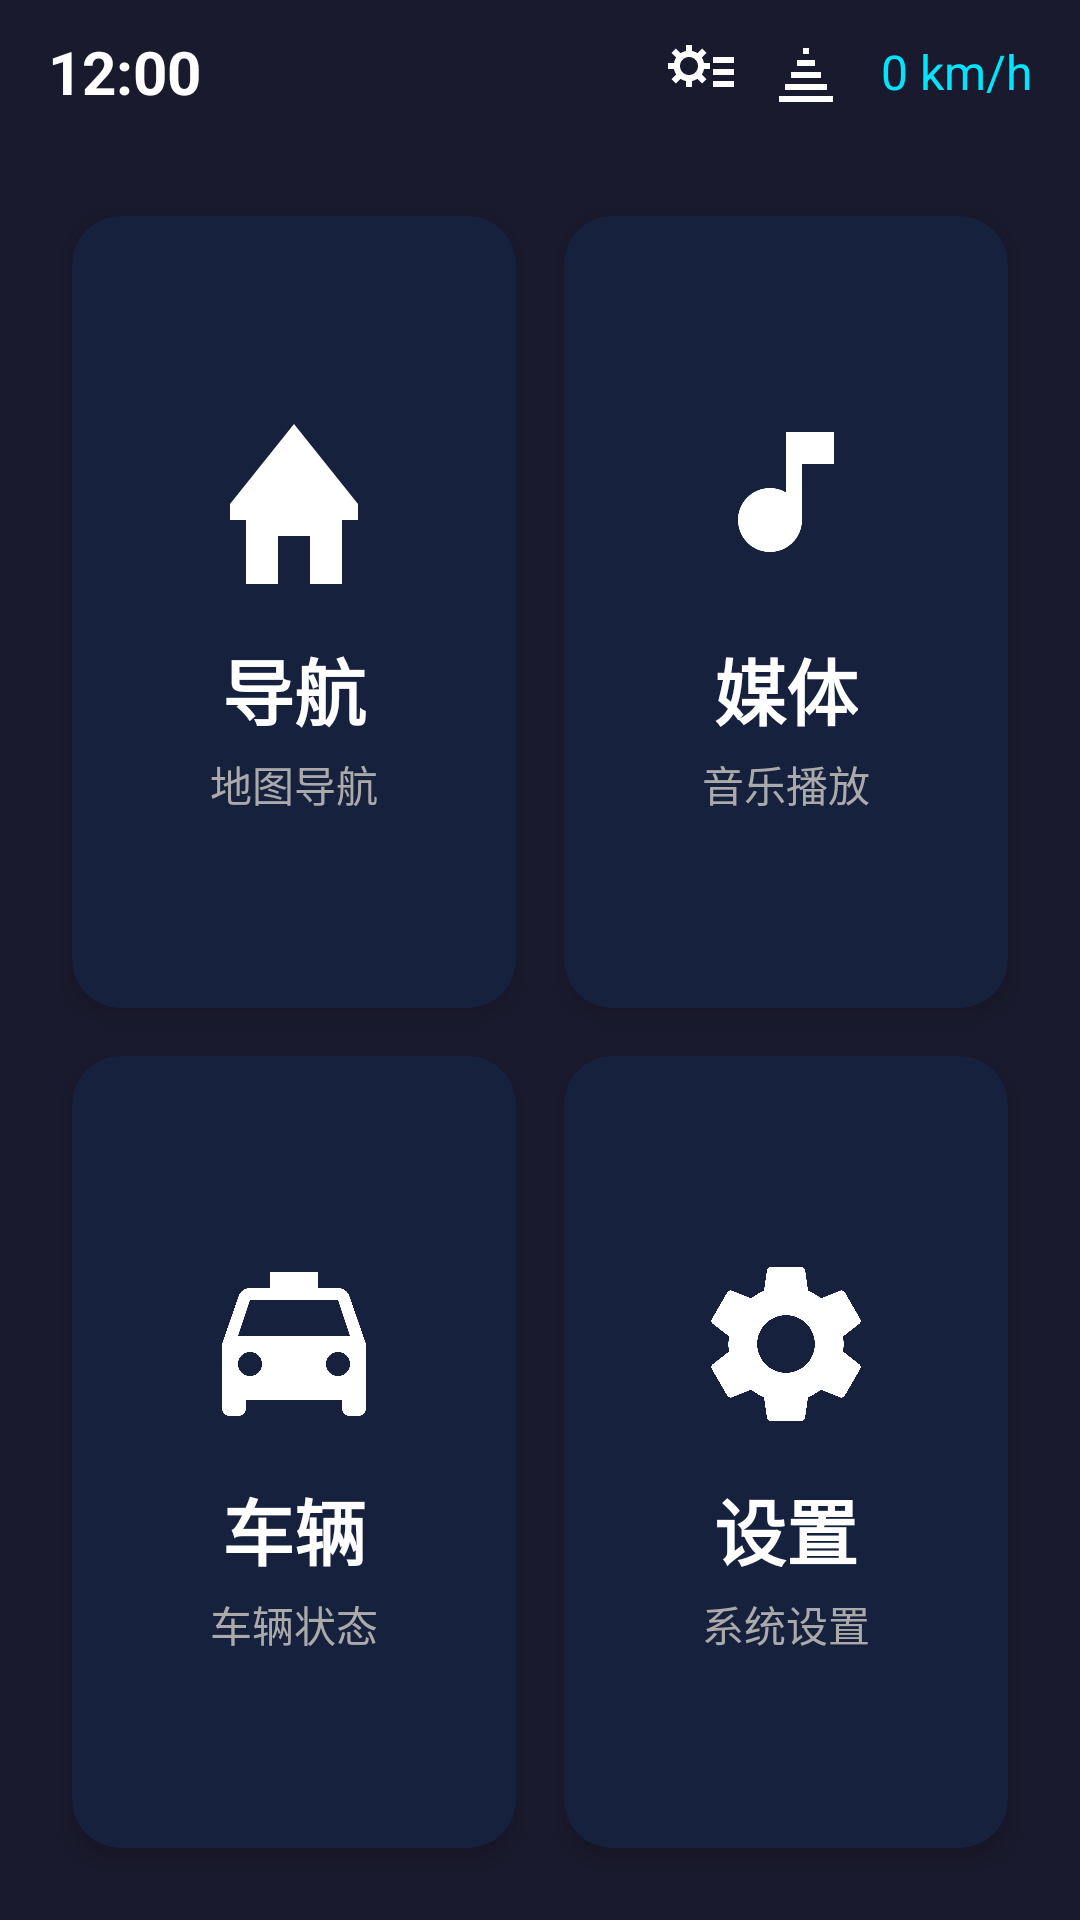

Screen size 1080*1920. Icon name, then its center in pixels as (x=x, y=y):
car: (x=294, y=1344)
music: (x=786, y=492)
navigation: (x=294, y=504)
settings: (x=786, y=1344)
signal: (x=806, y=75)
